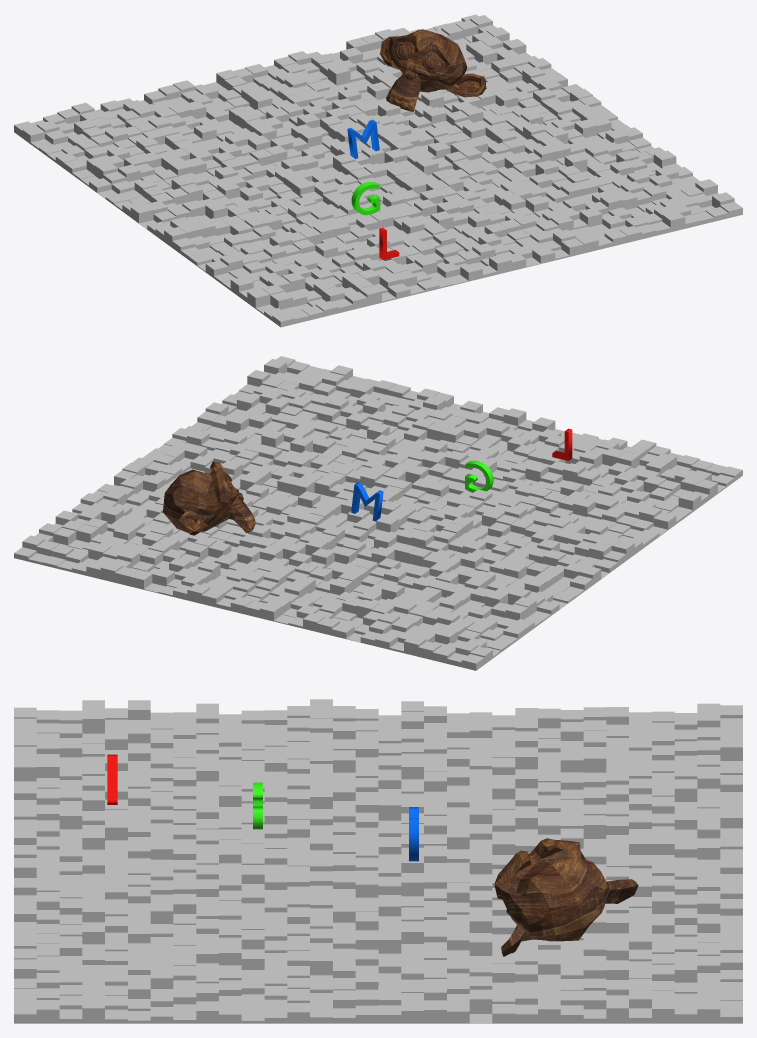
The model's file is scena.gltf.
The picture shows the model from 3 angles, top to bottom: view 1: azimuth 30°, elevation 25°; view 2: azimuth 150°, elevation 25°; view 3: azimuth 270°, elevation 25°; orthographic projection. The views are drawn at different scales.
Visible parts, largest first — view 1: Ravnina, Suzana, Besedilo.002, Besedilo.001; view 2: Ravnina, Suzana, Besedilo.002, Besedilo.001; view 3: Ravnina, Suzana, Besedilo, Besedilo.002.
Part boxes in pixels (bbox=[...]): Ravnina: bbox=[14, 14, 742, 327]; Suzana: bbox=[380, 29, 486, 111]; Besedilo.002: bbox=[347, 119, 379, 158]; Besedilo.001: bbox=[351, 182, 380, 215]; Ravnina: bbox=[14, 356, 742, 670]; Suzana: bbox=[163, 461, 255, 535]; Besedilo.002: bbox=[351, 482, 383, 521]; Besedilo.001: bbox=[465, 460, 493, 492]; Ravnina: bbox=[14, 699, 742, 1023]; Suzana: bbox=[494, 838, 638, 956]; Besedilo: bbox=[107, 754, 117, 804]; Besedilo.002: bbox=[409, 807, 418, 861].
Bounding box in the file's own units: 11.45 × 1.68 × 11.45.
